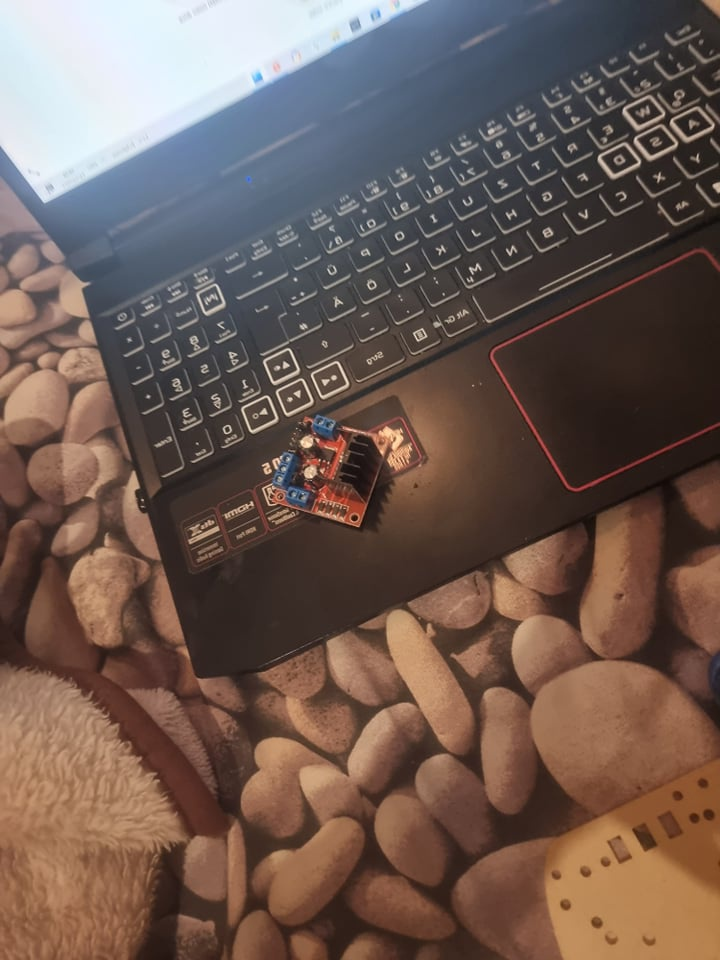MOTOR: (265, 411, 396, 531)
